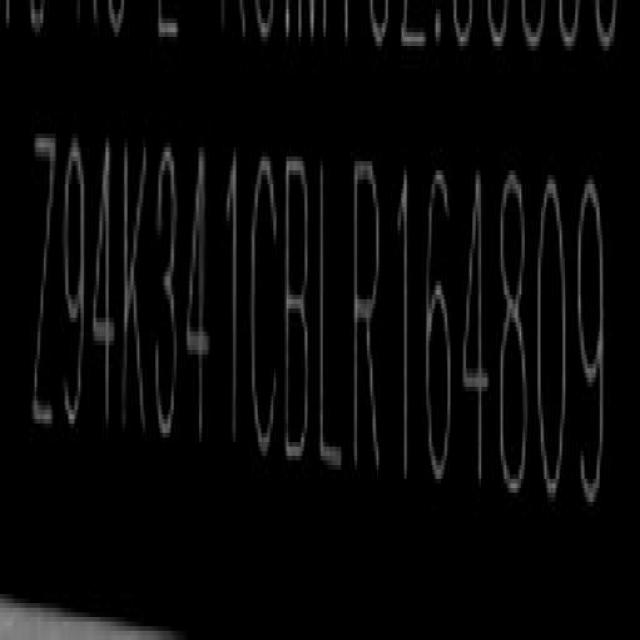0: (538, 172, 571, 510)
1: (221, 144, 242, 459), (396, 156, 415, 489)
3: (154, 131, 182, 453)
4: (463, 167, 491, 496), (186, 143, 213, 456), (92, 135, 118, 444)
6: (426, 160, 456, 494)
8: (500, 170, 531, 506)
9: (577, 182, 607, 514), (62, 132, 89, 446)
B: (284, 144, 314, 473)
C: (250, 149, 280, 464)
K: (120, 129, 150, 446)
L: (318, 152, 344, 479)
R: (353, 157, 385, 488)
Z: (29, 128, 57, 453)
